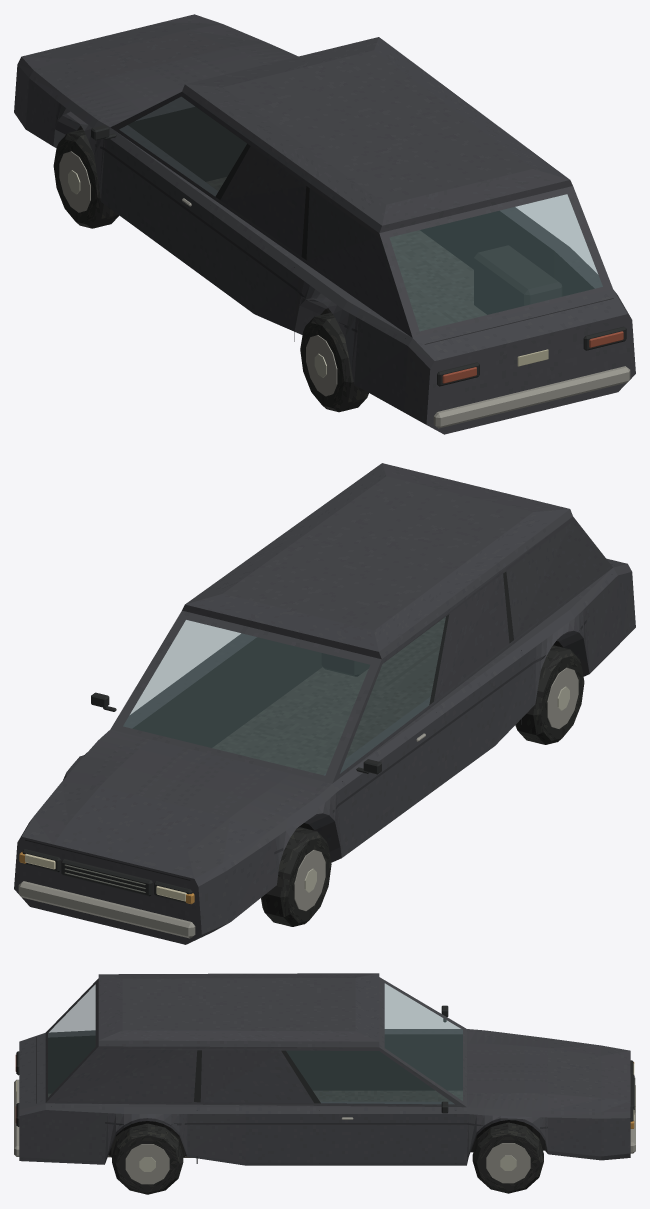
Rendered from vehicle_hearse.glb.
3 views of the same model, one above another, from view 1: azimuth 30°, elevation 25°; view 2: azimuth 150°, elevation 25°; view 3: azimuth 270°, elevation 25° (orthographic). The views are drawn at different scales.
Parts seen in each view (by area): view 1: closed_body, roof_body, glazing; view 2: closed_body, roof_body, glazing; view 3: closed_body, roof_body, glazing.
Boxes of the visible parts, x1,y1,x2,y2 form: closed_body: (14,14,635,434); roof_body: (182,37,572,232); glazing: (119,97,602,331); closed_body: (14,516,635,944); roof_body: (182,463,572,659); glazing: (123,617,445,775); closed_body: (14,977,635,1194); roof_body: (98,973,379,1047); glazing: (48,983,462,1104).
Bounding box in the file's own units: 2.15 × 1.48 × 5.57.
2 materials, 2 textured.
